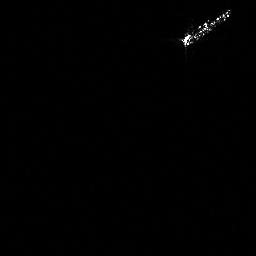ship: (175, 5, 232, 50)
